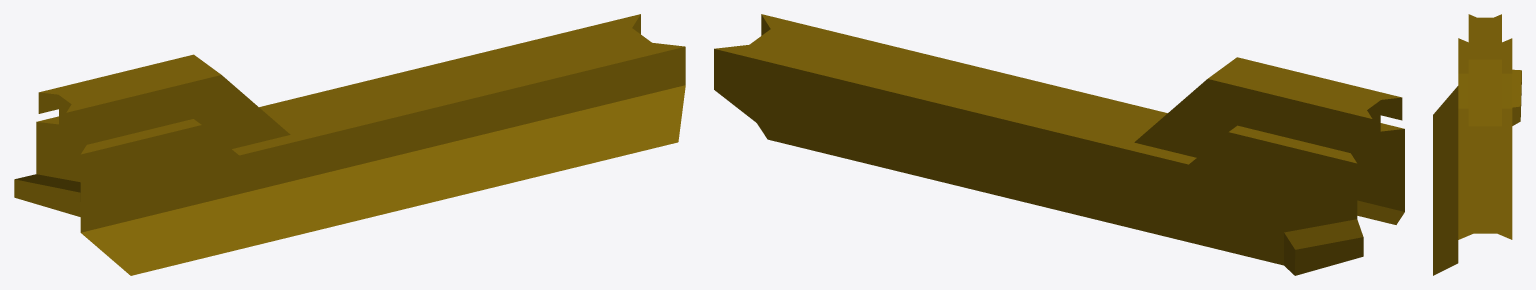
File: mesh_BuildingA_WallCapBalcony_v2.2.fbx
The picture shows the model from 3 angles, left to right: view 1: azimuth 30°, elevation 25°; view 2: azimuth 150°, elevation 25°; view 3: azimuth 270°, elevation 25°; orthographic projection. The views are drawn at different scales.
Parts seen in each view (by area): view 1: mesh_BuildingA_WallCapBalcony1; view 2: mesh_BuildingA_WallCapBalcony1; view 3: mesh_BuildingA_WallCapBalcony1.
Boxes of the visible parts, x1,y1,x2,y2 form: mesh_BuildingA_WallCapBalcony1: (14,14,685,275); mesh_BuildingA_WallCapBalcony1: (714,14,1404,275); mesh_BuildingA_WallCapBalcony1: (1433,14,1521,275).
Size of the model in its own units: 185 by 42.94 by 38.2.
